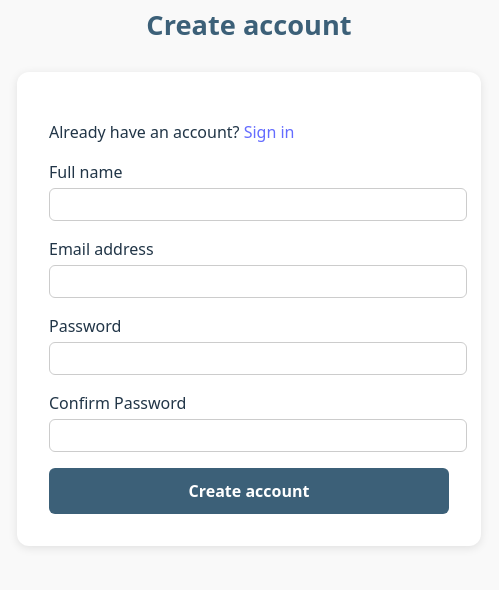
Test: RegisterView › validates password confirmation
The width and height of the screenshot is (499, 590).
Type "Password123!" into the password field labelled "Password" at (258, 359), box [49, 342, 467, 375]
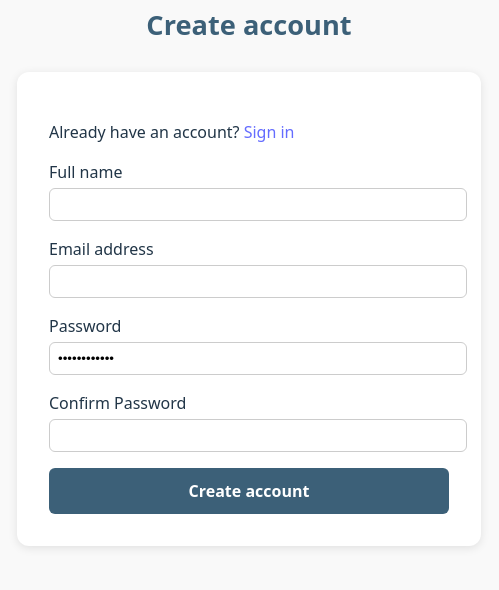
Type "different" into the password field labelled "Confirm Password" at (258, 436), box [49, 419, 467, 452]
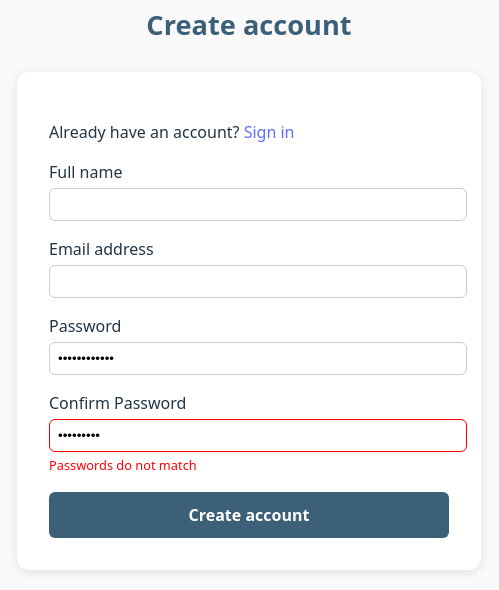
Expected: the text "Passwords do not match" is shown, [49, 456, 197, 474]
